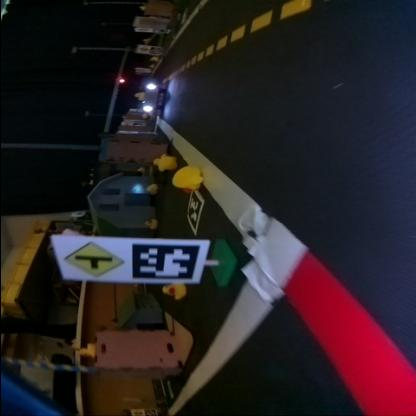Duckie: (171, 165, 199, 191), (160, 284, 184, 298), (152, 154, 172, 170), (78, 343, 96, 358), (142, 218, 155, 230), (144, 183, 156, 193), (132, 91, 142, 99)
Duckiebot: (140, 82, 164, 111)
Intersection sign: (59, 240, 123, 278)
QR code: (131, 244, 197, 278), (184, 192, 202, 234)
